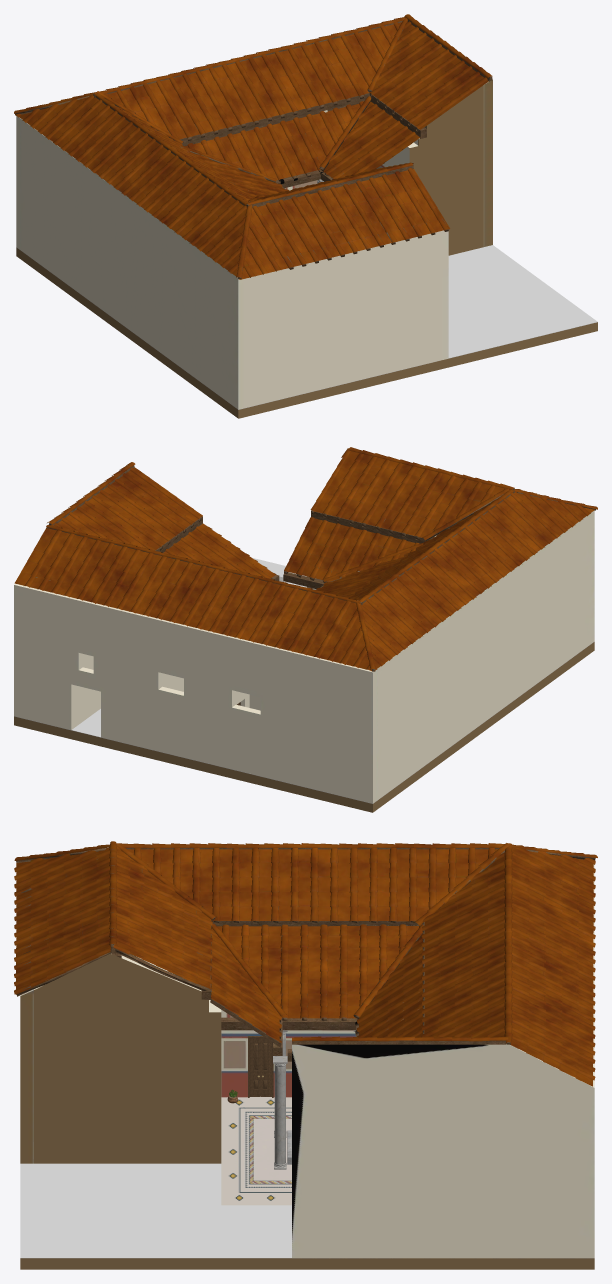
File: Atrio_bake_seccao_optimized.glb
The picture shows the model from 3 angles, top to bottom: view 1: azimuth 30°, elevation 25°; view 2: azimuth 150°, elevation 25°; view 3: azimuth 270°, elevation 25°; orthographic projection. The views are drawn at different scales.
Parts seen in each view (by area): view 1: Tejado, Paredes, Chão, Plane.002, Madeira, Muros_interiores; view 2: Paredes, Tejado, Chão, Madeira, Muros_02; view 3: Tejado, Paredes, Plane.003, Chão, Mosaico, Madeira, Muros_interiores, Puerta, Colunas.
Boxes of the visible parts, x1,y1,x2,y2 form: Tejado: (14,14,492,279); Paredes: (16,80,492,409); Chão: (16,245,597,418); Plane.002: (418,85,483,255); Madeira: (15,19,492,279); Muros_interiores: (285,142,418,190); Paredes: (14,510,594,803); Tejado: (14,447,597,671); Chão: (14,558,594,812); Madeira: (35,465,595,671); Muros_02: (75,654,183,726); Tejado: (14,841,597,1086); Paredes: (20,864,594,1258); Plane.003: (34,953,208,1163); Chão: (20,1163,594,1269); Mosaico: (221,1096,291,1205); Madeira: (16,848,595,1061); Muros_interiores: (209,1000,355,1163); Puerta: (248,1036,273,1097); Colunas: (273,1030,356,1169).
Size of what is drawn, in the model's own units: 23.64 by 11.14 by 25.48.
19 materials, 16 textured.
